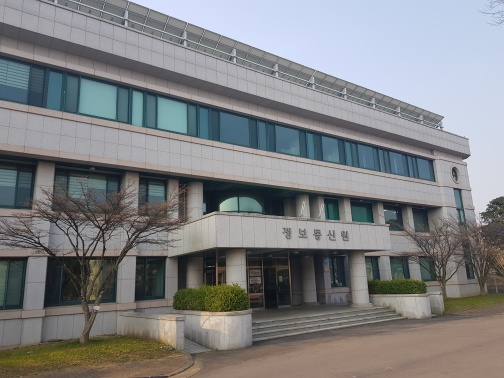Information Telecommunication Center: (1, 2, 482, 305), (8, 7, 481, 299), (42, 31, 474, 226), (194, 244, 392, 310), (269, 215, 361, 252)
